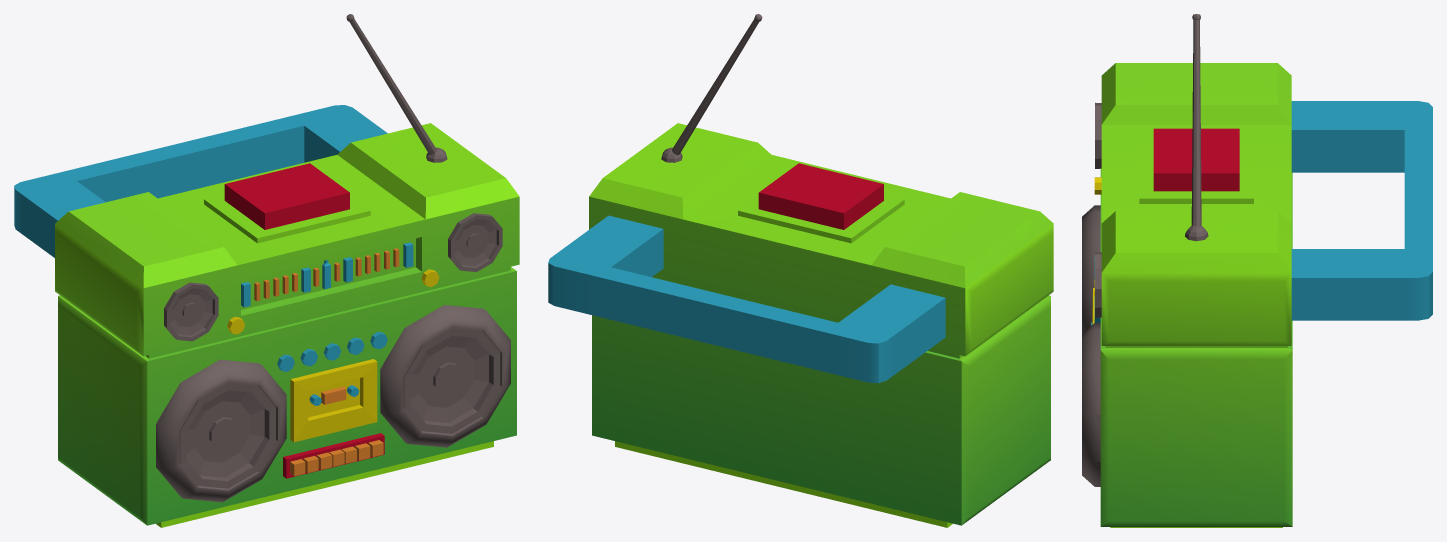
File: ITM_BoomBox.fbx
3 renders of one model, left to right at view 1: azimuth 30°, elevation 25°; view 2: azimuth 150°, elevation 25°; view 3: azimuth 270°, elevation 25°, orthographic. The views are drawn at different scales.
Parts seen in each view (by area): view 1: Boombox, Button; view 2: Boombox, Button; view 3: Boombox, Button.
Part boxes in pixels (x1,y1,x2,y2): Boombox: (14,14,519,527); Button: (224,163,349,229); Boombox: (548,14,1053,527); Button: (758,163,883,229); Boombox: (1082,14,1432,527); Button: (1153,128,1239,191).
Bounding box in the file's own units: 51.22 × 54.75 × 37.82.
